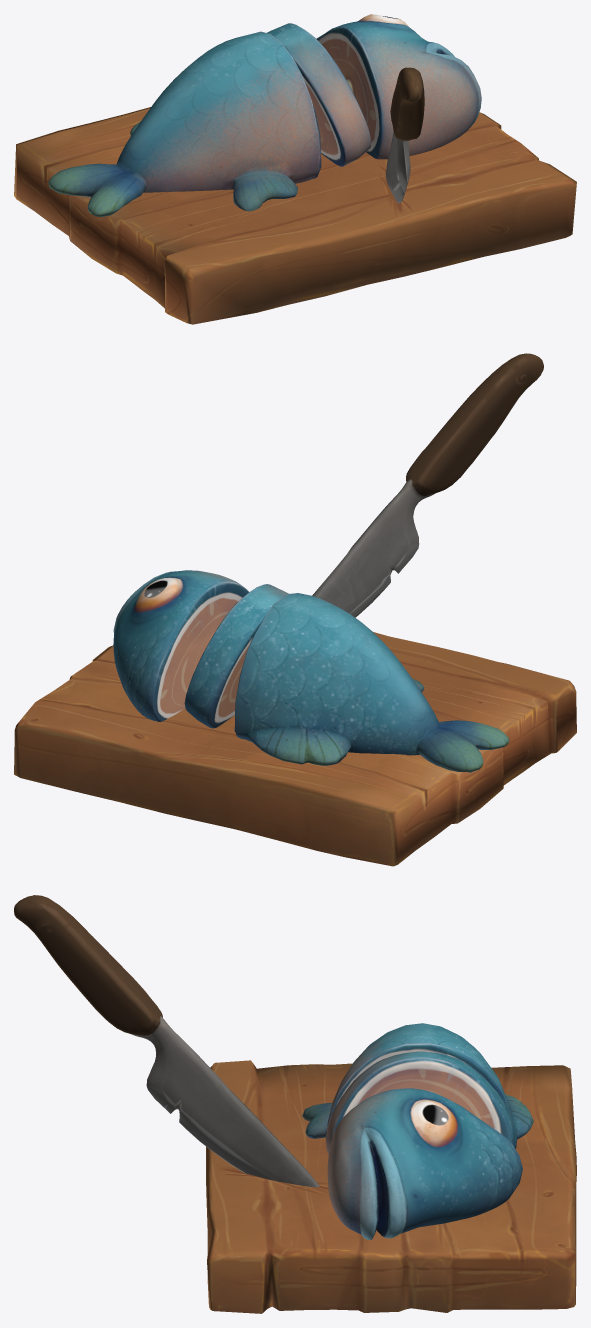
Rendered from cut_fish2.glb.
3 renders of one model, top to bottom at view 1: azimuth 30°, elevation 25°; view 2: azimuth 150°, elevation 25°; view 3: azimuth 270°, elevation 25°, orthographic.
Parts seen in each view (by area): view 1: Object_2.002; view 2: Object_2.002; view 3: Object_2.002.
Boxes of the visible parts, left/top/right/bottom form: Object_2.002: left=14, top=14, right=576, bottom=324; Object_2.002: left=14, top=353, right=576, bottom=866; Object_2.002: left=14, top=895, right=576, bottom=1313.
Size of the model in its own units: 4.72 by 3.2 by 5.52.
1 material, 1 textured.
